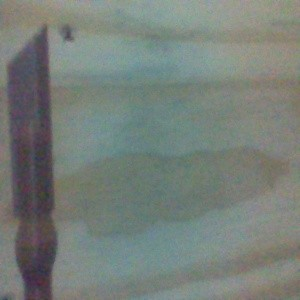cutter: (3, 22, 59, 300)
